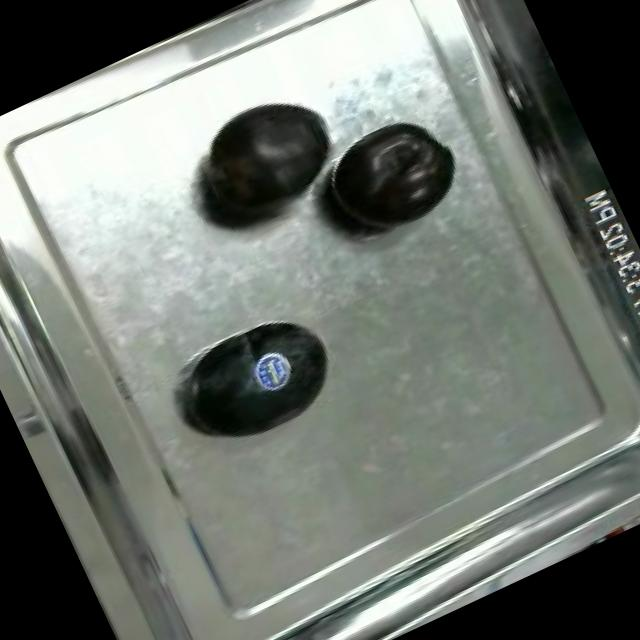Fruit: (168, 76, 358, 248), (168, 295, 358, 464), (303, 100, 476, 256)
